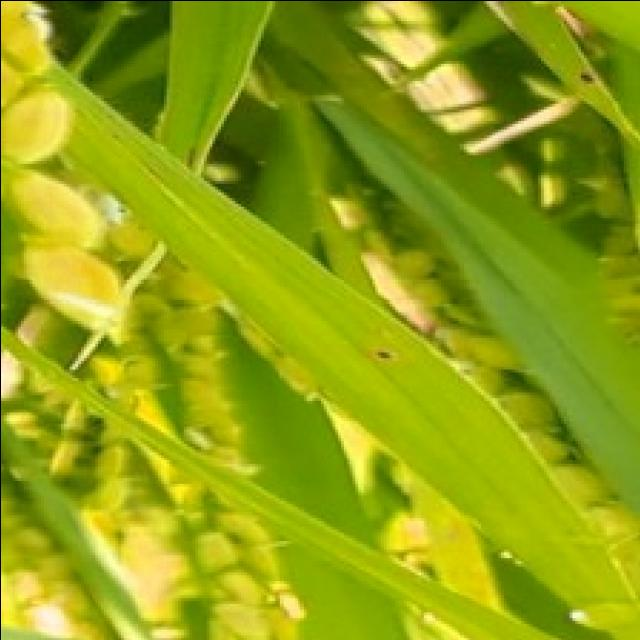Unhealthy: (465, 91, 580, 156), (368, 344, 400, 370), (574, 64, 594, 90)
